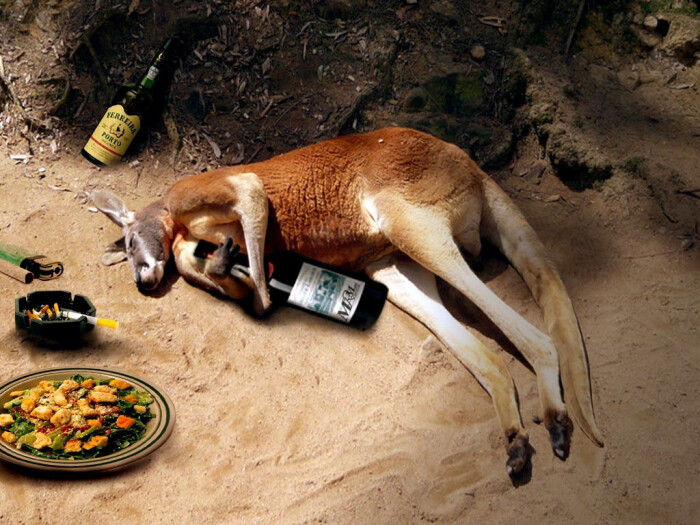kangaroo: (89, 114, 610, 482)
